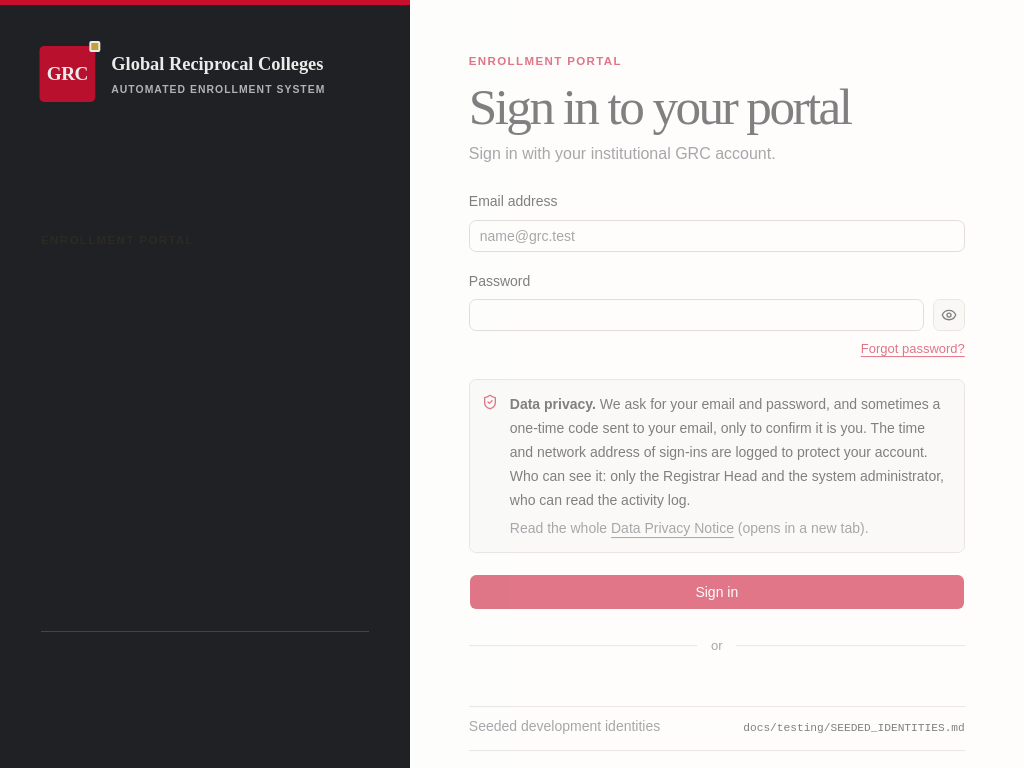
LoginPage › login-OTP challenge › shows the code step instead of a generic credential error
Type "student.seed@grc.test" into the field labelled "Email address" at (717, 236), box 469,220 -> 965,252
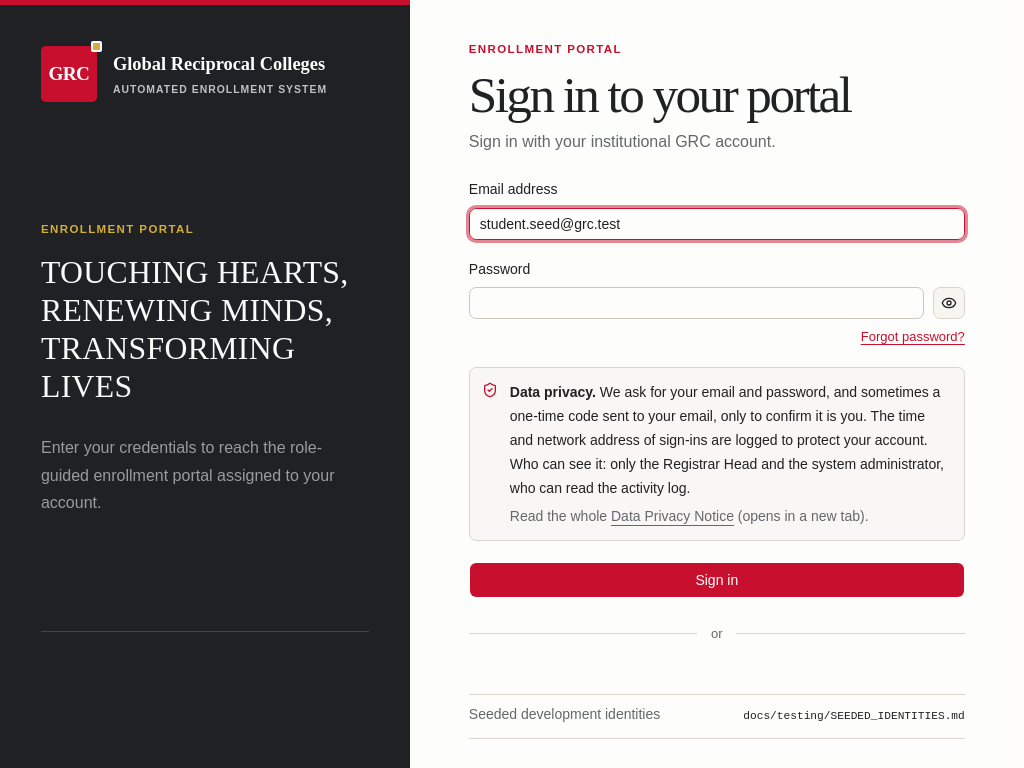
Type "a-correct-password" into the password field labelled "Password" at (696, 303), box 469,287 -> 924,319
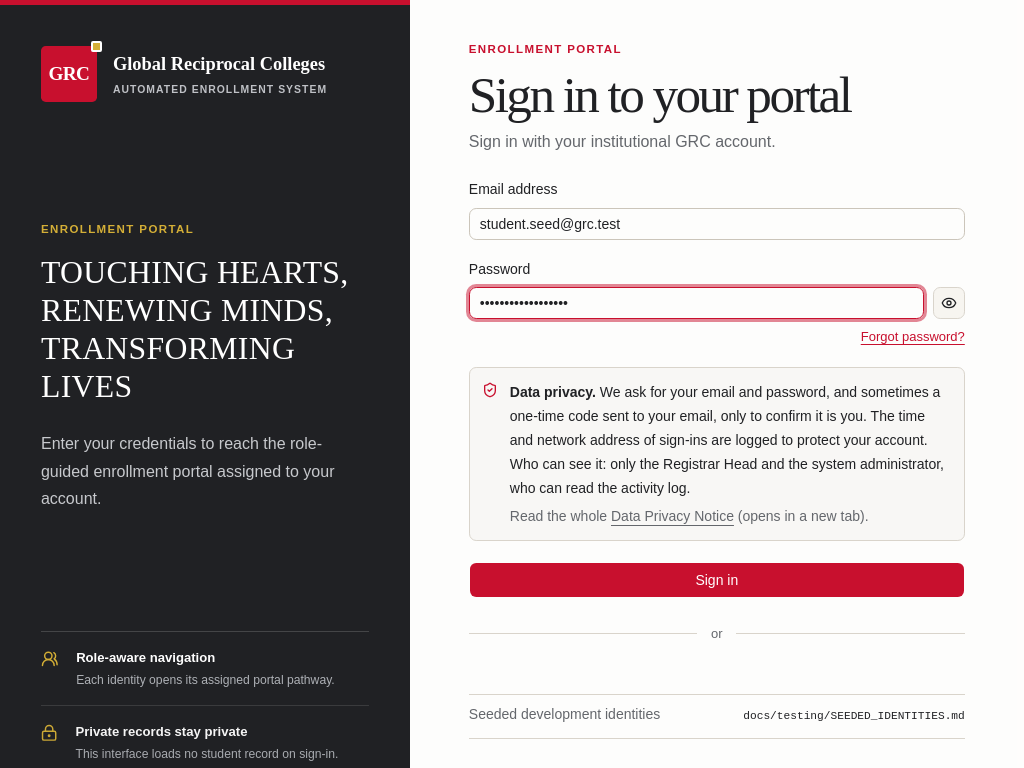
Click the button "Sign in" at (717, 580), box 469,562 -> 965,598
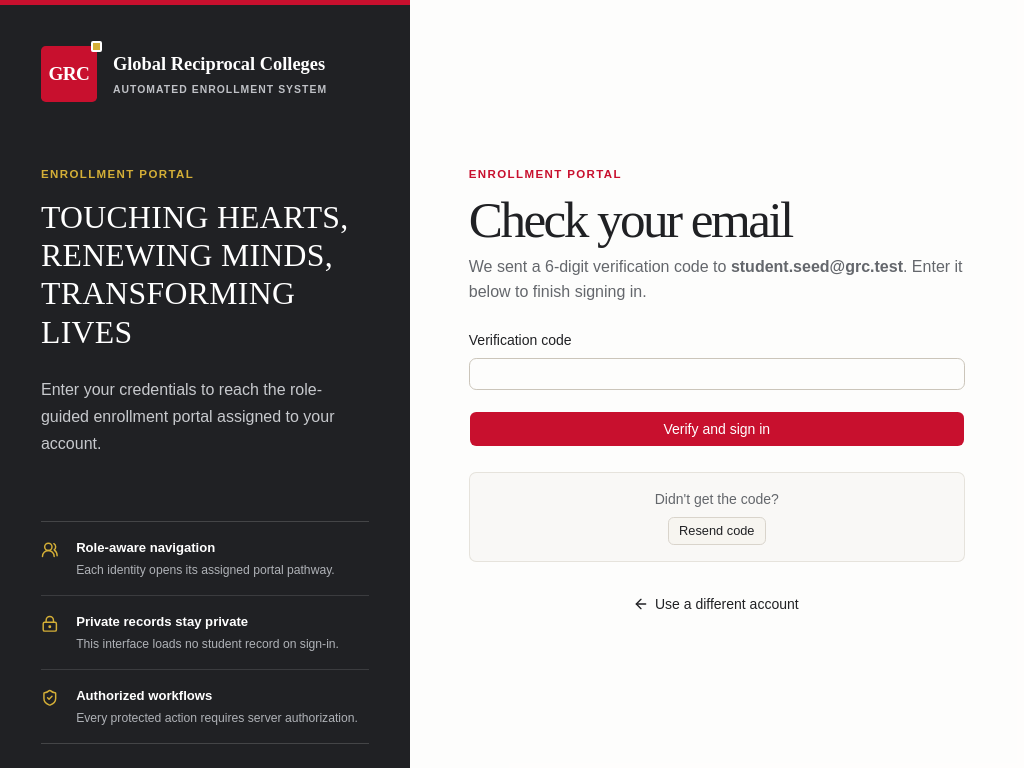
Expected: the heading "Check your email" is shown, 469,191 -> 792,248
Expected: the text "student.seed@grc.test" is shown, 731,258 -> 903,275
Expected: the field labelled "Verification code" is shown, 469,358 -> 965,390
